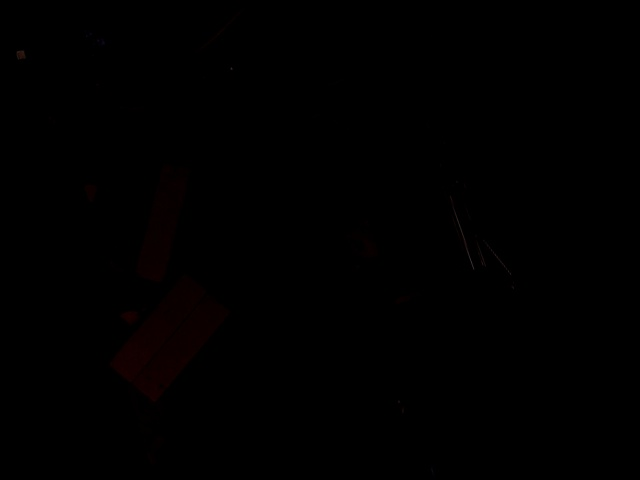brick-side: (109, 271, 207, 379), (133, 292, 226, 397), (253, 174, 336, 285), (226, 161, 309, 272), (200, 149, 283, 260), (215, 269, 332, 332), (136, 163, 189, 281), (108, 158, 161, 276), (81, 149, 134, 266)
